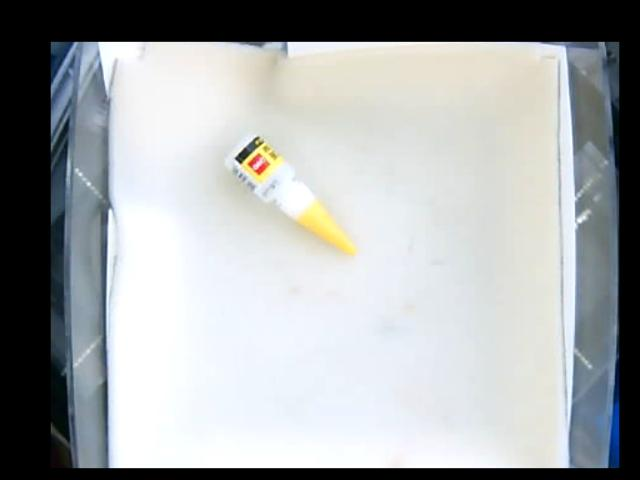Bottle: (225, 134, 354, 258)
